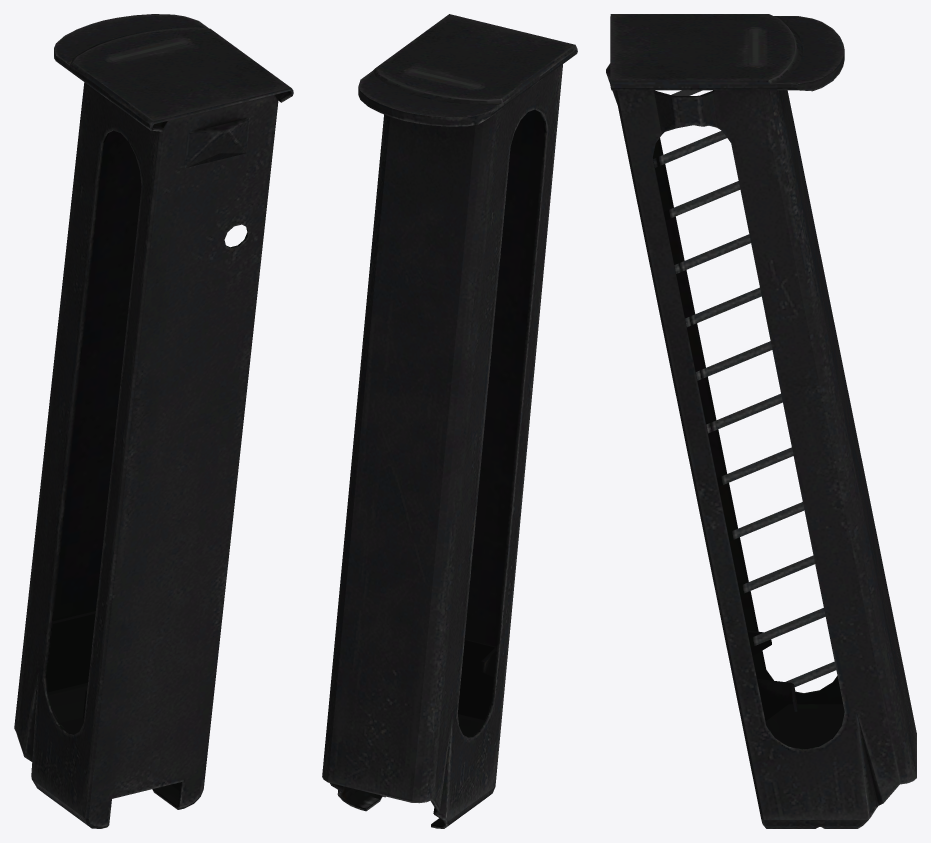
3 renders of one model, left to right at view 1: azimuth 30°, elevation 25°; view 2: azimuth 150°, elevation 25°; view 3: azimuth 270°, elevation 25°, orthographic. The views are drawn at different scales.
Parts seen in each view (by area): view 1: TW_5a17fb03fcdbcbcae668728f_PZ_Import; view 2: TW_5a17fb03fcdbcbcae668728f_PZ_Import; view 3: TW_5a17fb03fcdbcbcae668728f_PZ_Import.
Boxes of the visible parts, box(x1,y1,x2,y2) form: TW_5a17fb03fcdbcbcae668728f_PZ_Import: box(14, 14, 293, 828); TW_5a17fb03fcdbcbcae668728f_PZ_Import: box(322, 14, 577, 828); TW_5a17fb03fcdbcbcae668728f_PZ_Import: box(606, 14, 916, 828).
Bounding box in the file's own units: 0.0149 × 0.0283 × 0.0764.
Materials: 1 (1 with a texture image).
